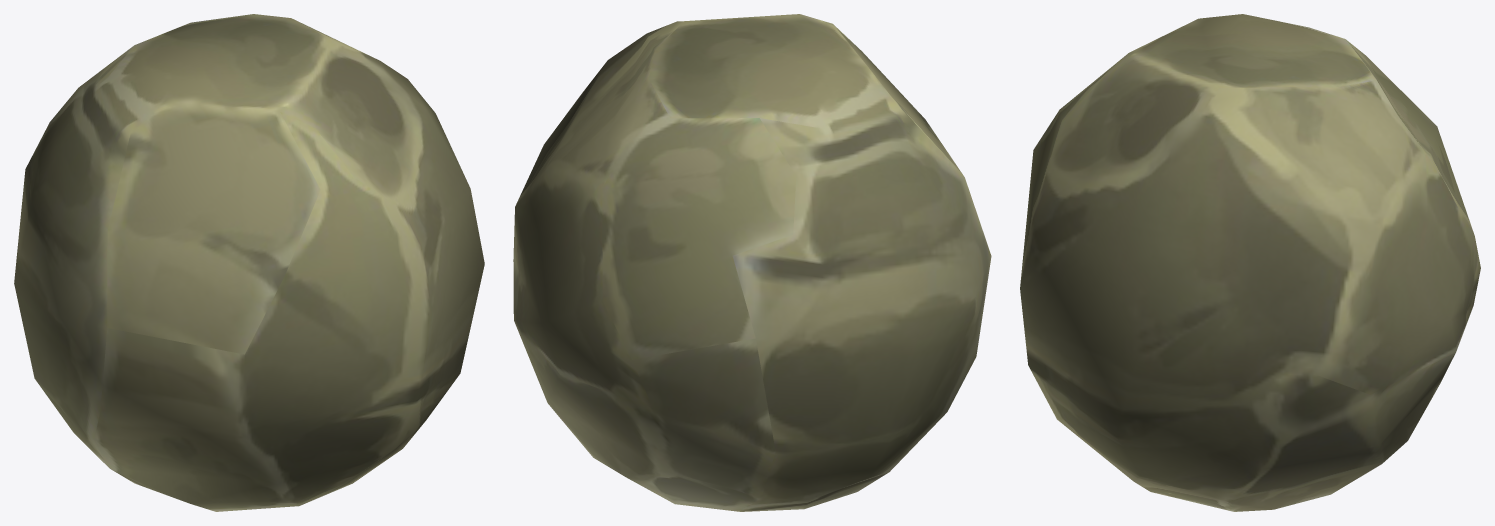
Rendered from stfRock.FBX.
3 renders of one model, left to right at view 1: azimuth 30°, elevation 25°; view 2: azimuth 150°, elevation 25°; view 3: azimuth 270°, elevation 25°, orthographic. The views are drawn at different scales.
Visible parts, largest first — view 1: stfRock; view 2: stfRock; view 3: stfRock.
Boxes of the visible parts, x1,y1,x2,y2 form: stfRock: (14,14,484,511); stfRock: (513,14,991,511); stfRock: (1020,14,1480,511).
Size of the model in its own units: 200 by 200 by 200.
